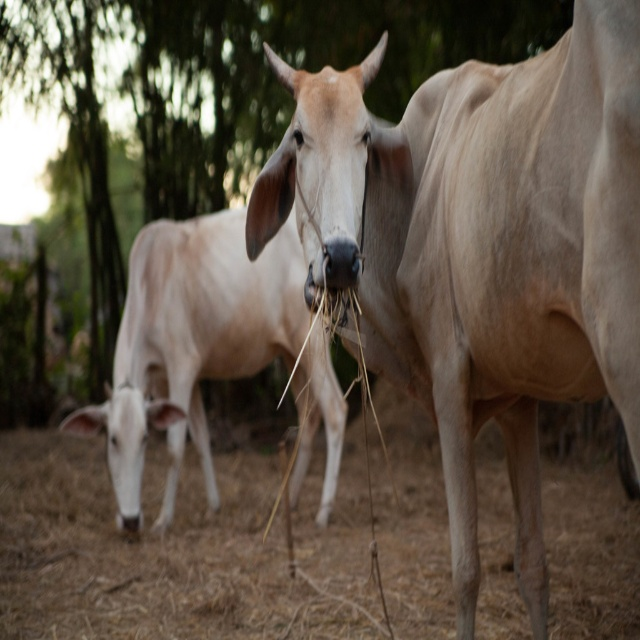Cattle: (245, 0, 640, 640), (58, 206, 349, 533)
